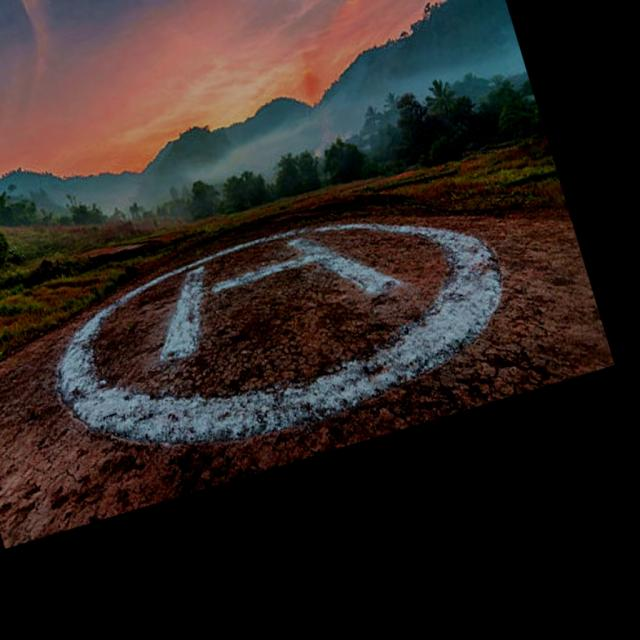helipad: (54, 215, 505, 454)
